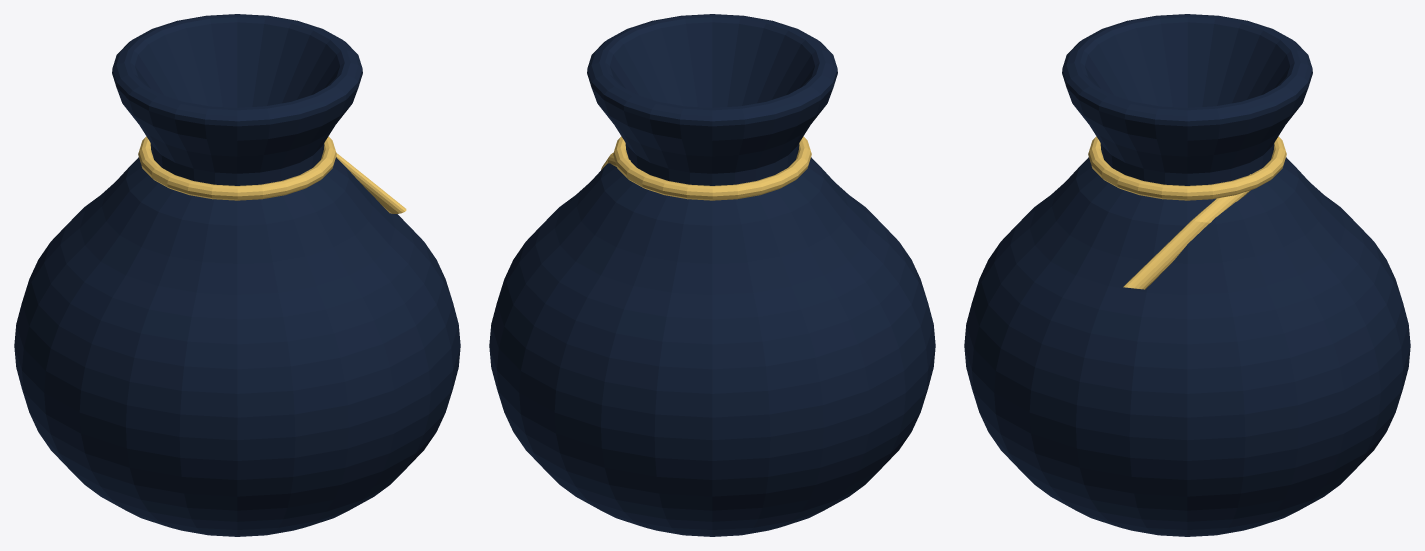
The model's file is MoneyPouch.fbx.
The picture shows the model from 3 angles, left to right: view 1: azimuth 30°, elevation 25°; view 2: azimuth 150°, elevation 25°; view 3: azimuth 270°, elevation 25°; orthographic projection.
Parts seen in each view (by area): view 1: Sphere; view 2: Sphere; view 3: Sphere.
Part boxes in pixels (x1,y1,x2,y2): Sphere: (14,14,460,536); Sphere: (489,14,935,536); Sphere: (964,14,1410,536).
Bounding box in the file's own units: 28.82 × 32.02 × 28.82.
